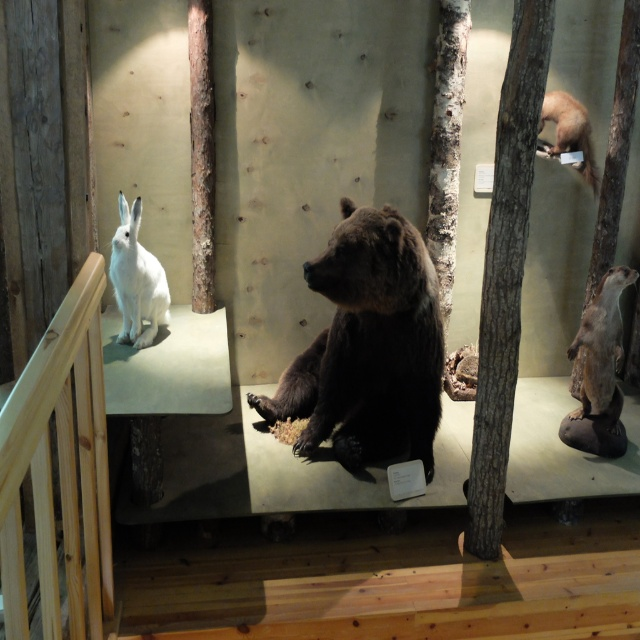Rabbit: (110, 188, 170, 349)
